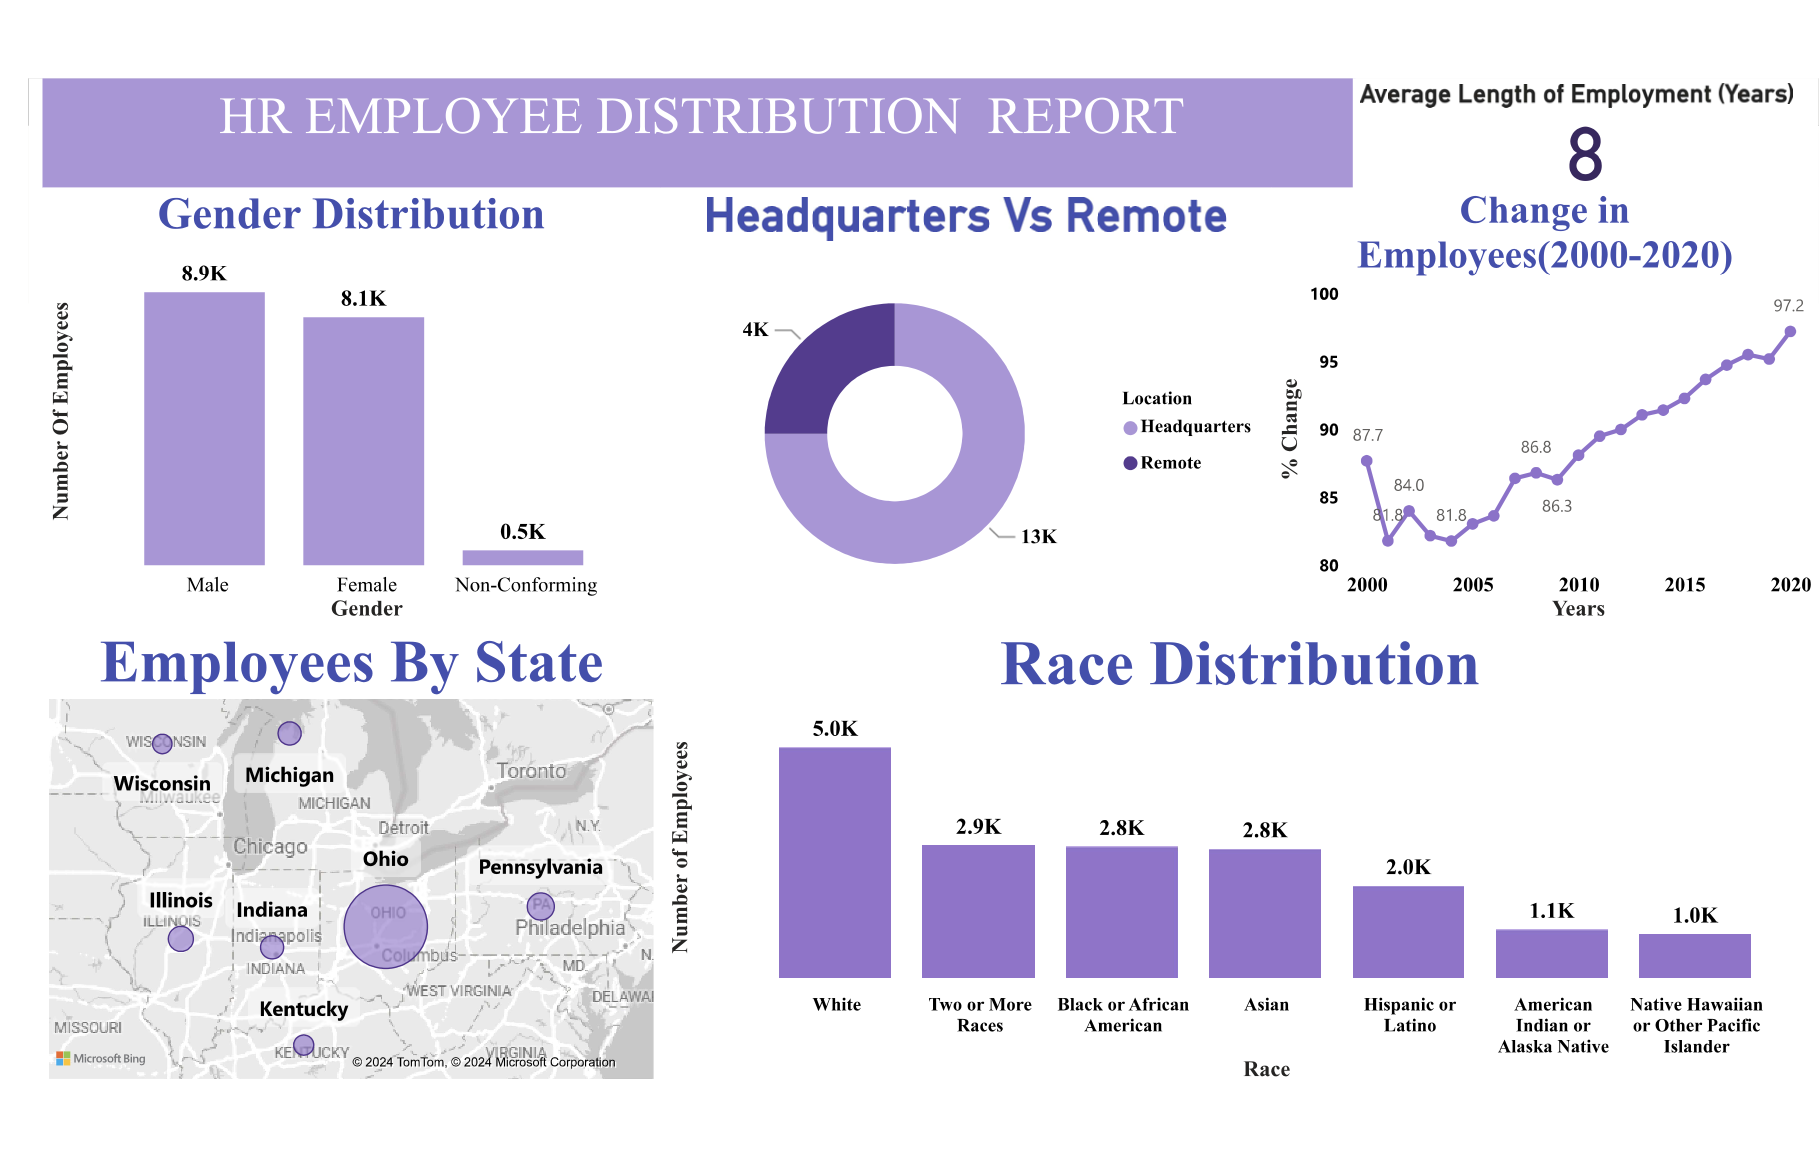

What the dashboard file says about the page in this screenshot:
{"tool":"powerbi","page":{"name":"Page 1","canvas":[1280,720],"ordinal":0},"visuals":[{"type":"textbox","box":[10.5,0,938.2,78.5],"z":0},{"type":"card","title":"Average Length of Employment (Years)","fields":{"Values":["Sum(avg_length_termination.avg_length_employement)"]},"box":[946.9,0,333.1,93.6],"z":1},{"type":"columnChart","title":"Gender Distribution","fields":{"Y":["Sum(Gender.count)"],"Category":["Gender.gender"]},"box":[10.5,78.5,441.2,313.9],"z":2},{"type":"donutChart","title":"Headquarters Vs Remote","fields":{"Y":["Sum(location.count(*))"],"Category":["location.location"]},"box":[451.7,78.5,437.7,313.9],"z":3},{"type":"lineChart","title":"Change in Employees(2000-2020)","fields":{"Y":["Sum(net_change_percent.net_change_percent)"],"Category":["net_change_percent.year"]},"box":[889.4,78.5,390.6,313.9],"z":4},{"type":"map","title":"Employees By State","fields":{"Size":["Sum(location_state.location_count)"],"Category":["location_state.location_state"]},"box":[10.5,392.4,441.2,327.8],"z":5},{"type":"clusteredColumnChart","title":"Race Distribution","fields":{"Y":["Sum(Race.count(*))"],"Category":["Race.race"]},"box":[452.8,391.8,827.2,328.7],"z":6}]}

Visuals, with their boxes on the page's 1280x720 design canvas (x1, y1, x2, y2). These are canvas units, not pixel positions in the 1820x1160 screenshot, which may show the page scaled, cropped or inside an application window:
textbox: (x1=10, y1=0, x2=949, y2=78)
"Average Length of Employment (Years)" card: (x1=947, y1=0, x2=1280, y2=94)
"Gender Distribution" columnChart: (x1=10, y1=78, x2=452, y2=392)
"Headquarters Vs Remote" donutChart: (x1=452, y1=78, x2=889, y2=392)
"Change in Employees(2000-2020)" lineChart: (x1=889, y1=78, x2=1280, y2=392)
"Employees By State" map: (x1=10, y1=392, x2=452, y2=720)
"Race Distribution" clusteredColumnChart: (x1=453, y1=392, x2=1280, y2=720)
